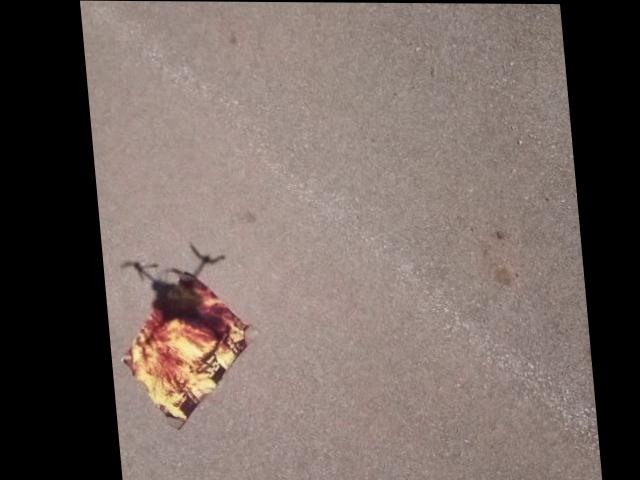fire-poster: (106, 254, 260, 430)
